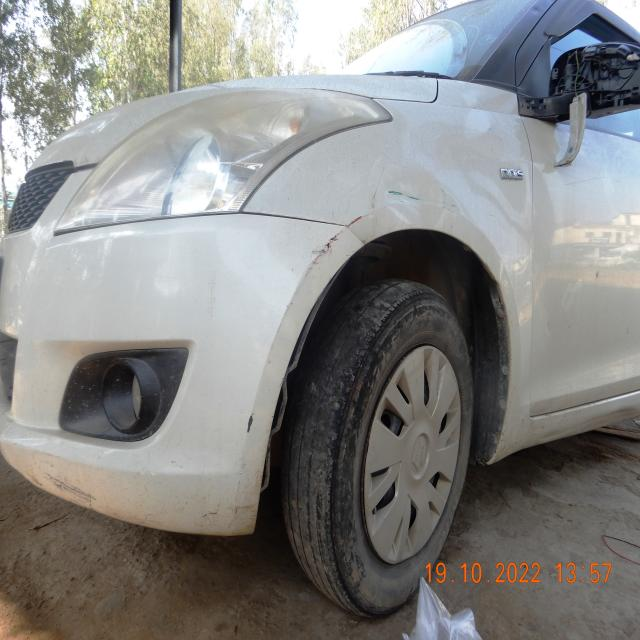damage: (549, 42, 640, 111), (188, 460, 262, 535), (385, 171, 446, 230), (299, 209, 363, 265), (45, 471, 97, 508), (245, 411, 254, 434)
